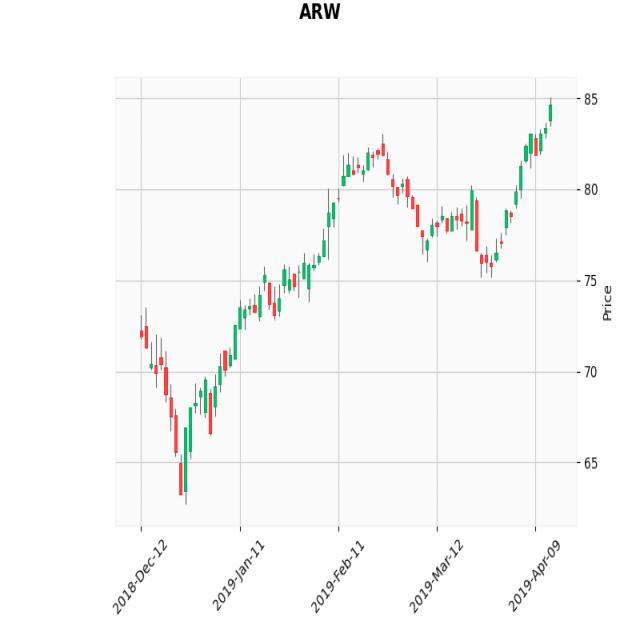Head-Shoulders: (325, 130, 431, 265)
